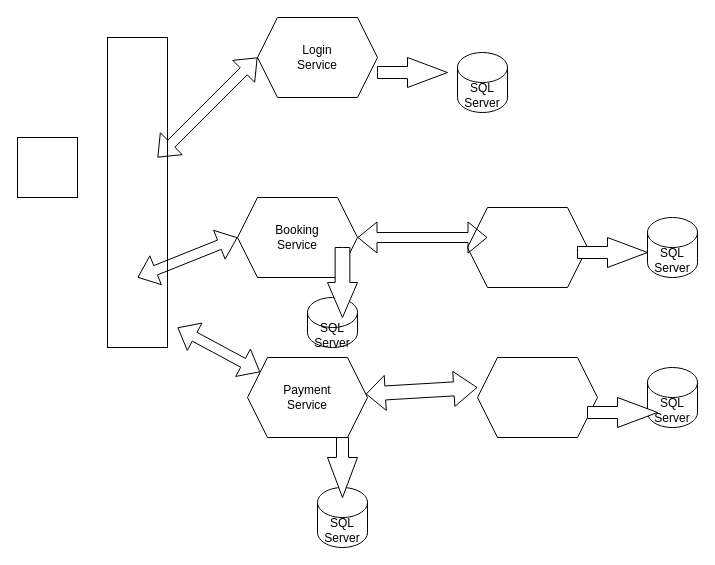
Some shapes in this 715 by 565 pixel diagram are drawn without their labels. The box of each missing label's shape, as (x1, y1, x2, y2) in pixels:
API Gateway: (106, 36, 168, 348)
Currency Service: (476, 356, 598, 438)
Venues Service: (466, 206, 588, 288)
web app front end: (16, 136, 78, 198)
